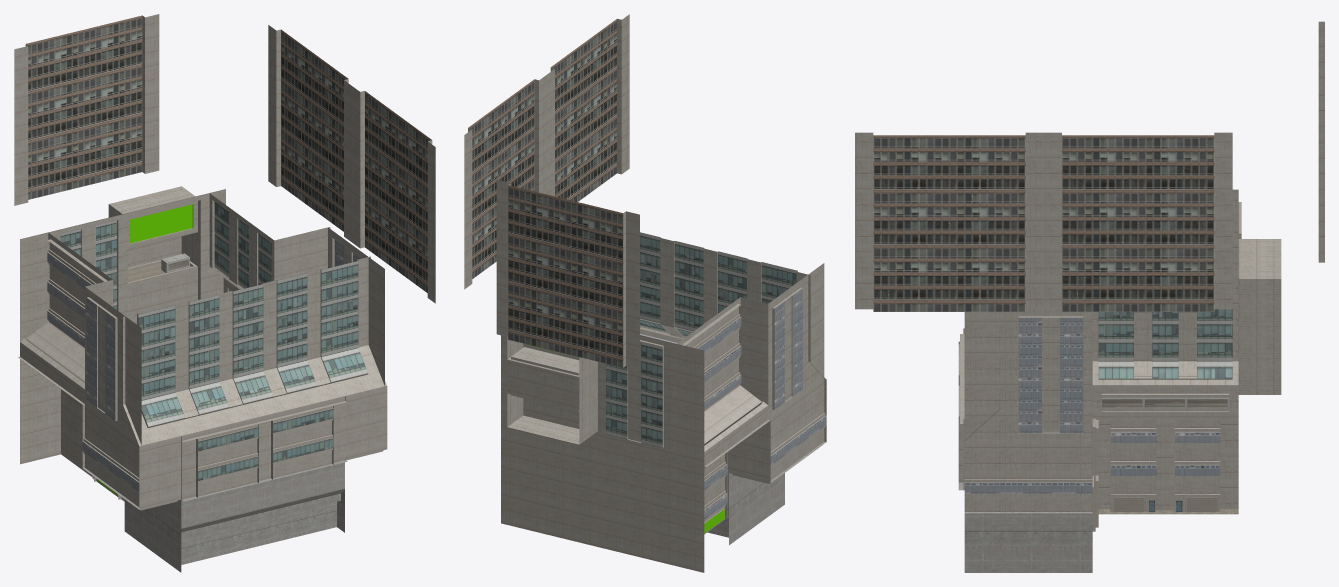
The model's file is world.glb.
3 renders of one model, left to right at view 1: azimuth 30°, elevation 25°; view 2: azimuth 150°, elevation 25°; view 3: azimuth 270°, elevation 25°, orthographic. The views are drawn at different scales.
Parts seen in each view (by area): view 1: EdgesScene_01; view 2: EdgesScene_01; view 3: EdgesScene_01.
Boxes of the visible parts, x1,y1,x2,y2 form: EdgesScene_01: [14, 14, 435, 572]; EdgesScene_01: [464, 14, 826, 572]; EdgesScene_01: [855, 21, 1324, 572].
Bounding box in the file's own units: 54 × 84 × 77.17.
Materials: 23 (18 with a texture image).
